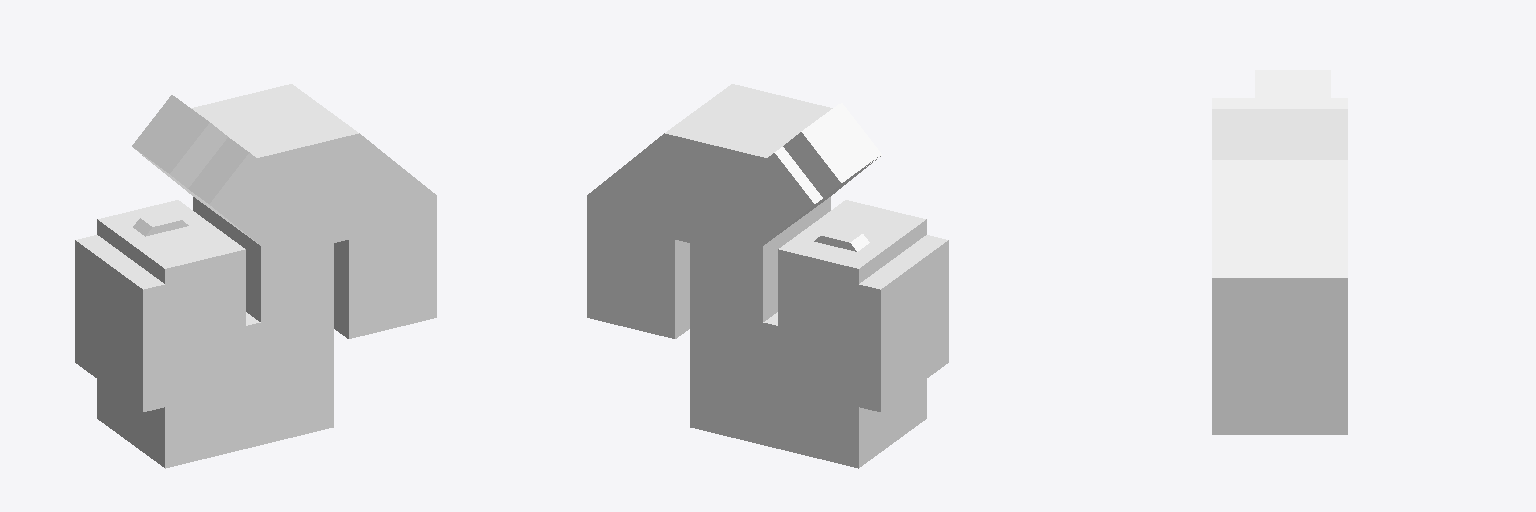
The model's file is map01_sect01.obj.
3 renders of one model, left to right at view 1: azimuth 30°, elevation 25°; view 2: azimuth 150°, elevation 25°; view 3: azimuth 270°, elevation 25°, orthographic.
Visible parts, largest first — view 1: F_WOOD01, BRKGRY17, WALTEK02, F_TELE2, DORWS04; view 2: F_BRKTOP, BRKGRY17, WALTEK02, F_TELE1, DORWS04, F_NAILWD, IRON05; view 3: BRKGRY17.
Part boxes in pixels (bbox=[...]): F_WOOD01: bbox=[143, 123, 436, 468]; BRKGRY17: bbox=[76, 84, 358, 467]; WALTEK02: bbox=[75, 240, 142, 411]; F_TELE2: bbox=[371, 251, 428, 325]; DORWS04: bbox=[132, 95, 209, 173]; F_BRKTOP: bbox=[587, 133, 880, 468]; BRKGRY17: bbox=[665, 84, 947, 467]; WALTEK02: bbox=[881, 240, 948, 411]; F_TELE1: bbox=[595, 251, 652, 325]; DORWS04: bbox=[801, 104, 879, 182]; F_NAILWD: bbox=[783, 132, 841, 197]; IRON05: bbox=[774, 147, 822, 203]; BRKGRY17: bbox=[1212, 70, 1347, 434].
Size of the model in its own units: 640 by 656 by 256.